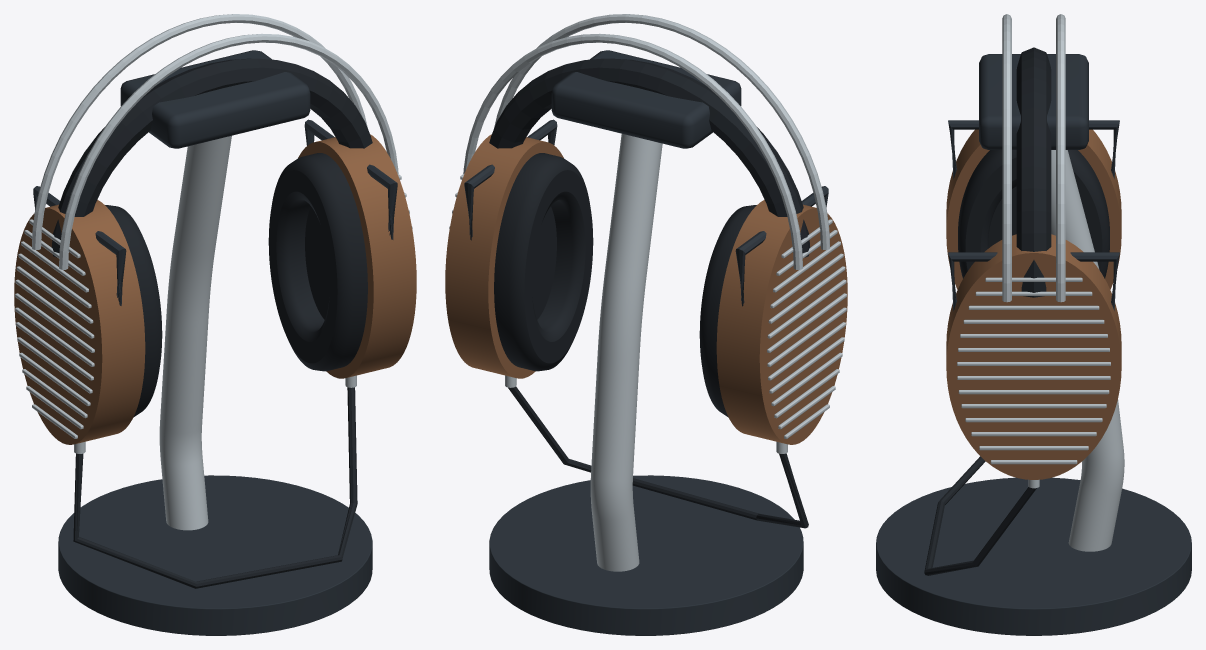
The model's file is hifiman-manta.glb.
3 views of the same model, side by side, from view 1: azimuth 30°, elevation 25°; view 2: azimuth 150°, elevation 25°; view 3: azimuth 270°, elevation 25° (orthographic).
Parts seen in each view (by area): view 1: catalog_surface_RealismUV; view 2: catalog_surface_RealismUV; view 3: catalog_surface_RealismUV.
Part boxes in pixels (x1,y1,x2,y2): catalog_surface_RealismUV: (14,14,416,635); catalog_surface_RealismUV: (445,14,847,635); catalog_surface_RealismUV: (876,14,1191,635).
Size of the model in its own units: 0.21 by 0.32 by 0.17.
